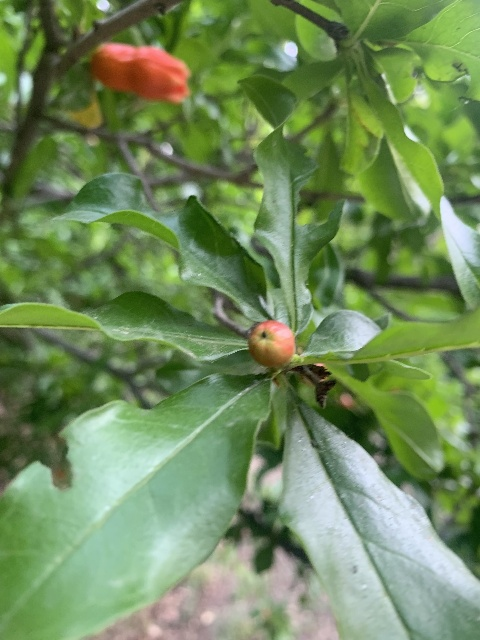bud: (247, 320, 294, 369)
flower: (89, 43, 191, 104)
